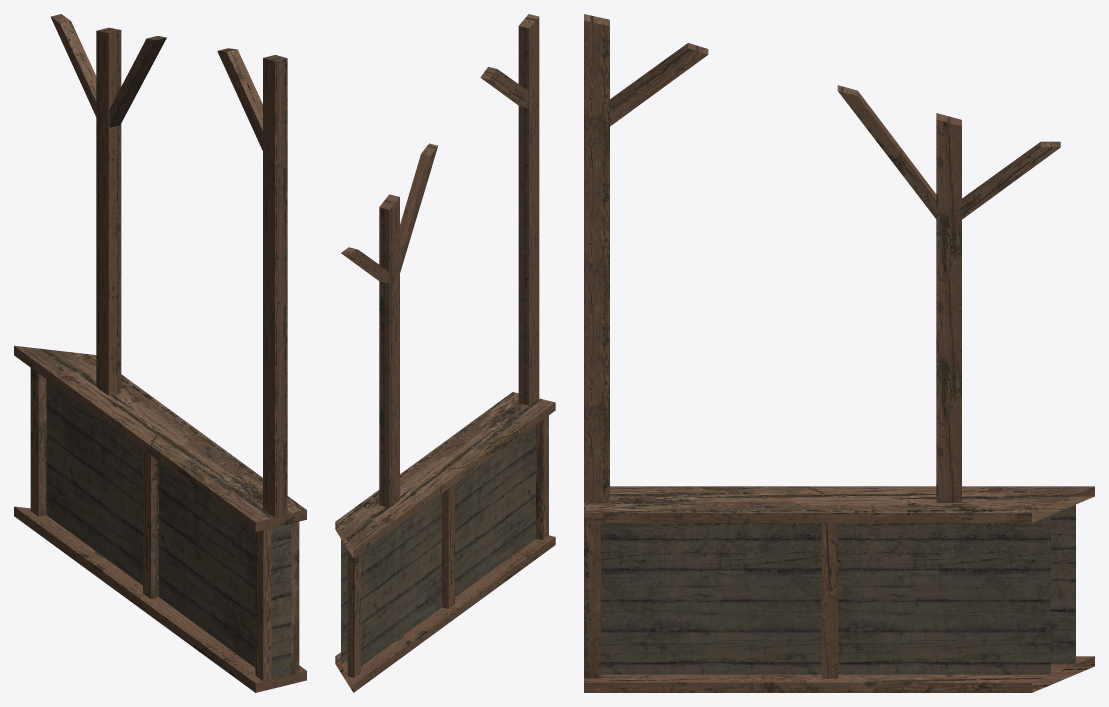
File: Prop_Balcony_Short_Mirror.fbx
3 renders of one model, left to right at view 1: azimuth 30°, elevation 25°; view 2: azimuth 150°, elevation 25°; view 3: azimuth 270°, elevation 25°, orthographic. The views are drawn at different scales.
Visible parts, largest first — view 1: Prop_Balcony_Short_Mirror; view 2: Prop_Balcony_Short_Mirror; view 3: Prop_Balcony_Short_Mirror.
Boxes of the visible parts, x1=… form: Prop_Balcony_Short_Mirror: x1=14, y1=14, x2=306, y2=692; Prop_Balcony_Short_Mirror: x1=335, y1=14, x2=555, y2=692; Prop_Balcony_Short_Mirror: x1=584, y1=14, x2=1094, y2=692.
Size of the model in its own units: 12.74 by 149 by 104.
